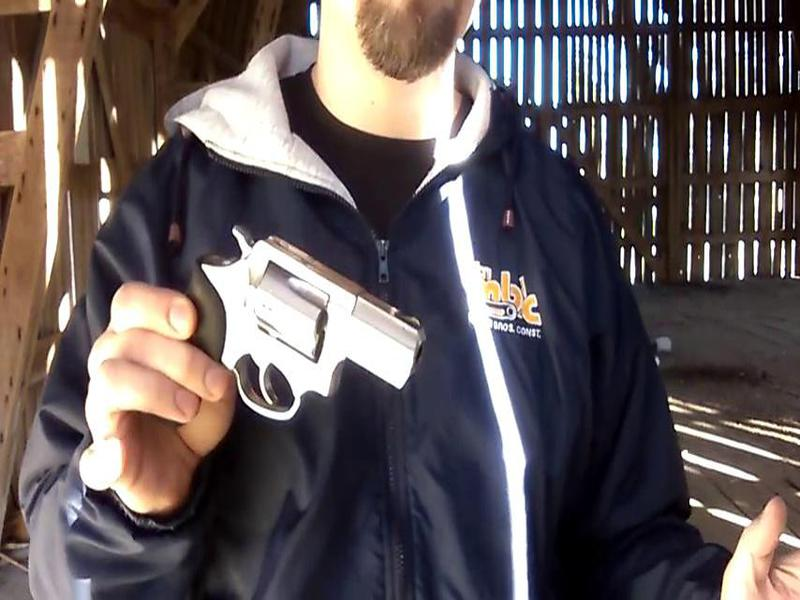Revolver: (127, 219, 421, 438)
